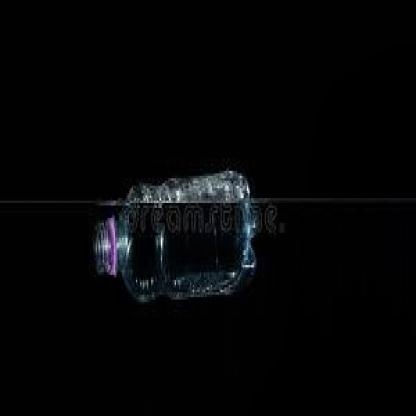pbottle: (82, 151, 259, 290)
